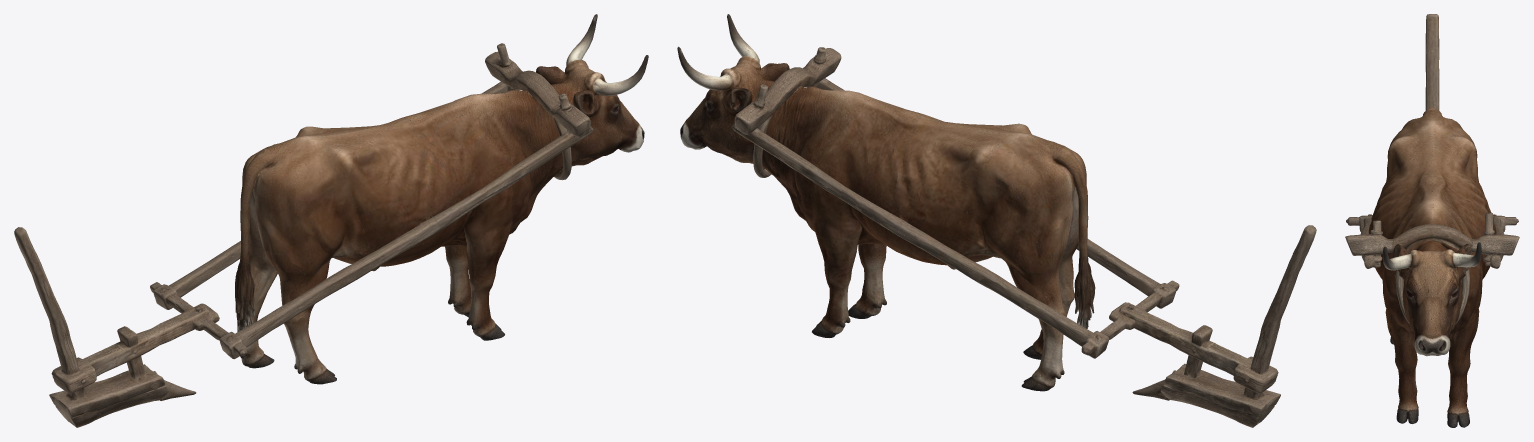
File: ox-plough.glb
The picture shows the model from 3 angles, left to right: view 1: azimuth 30°, elevation 25°; view 2: azimuth 150°, elevation 25°; view 3: azimuth 270°, elevation 25°; orthographic projection. The views are drawn at different scales.
Parts seen in each view (by area): view 1: Mesh_0; view 2: Mesh_0; view 3: Mesh_0.
Boxes of the visible parts, x1,y1,x2,y2 form: Mesh_0: [14, 14, 648, 427]; Mesh_0: [677, 14, 1316, 427]; Mesh_0: [1345, 14, 1519, 427].
Size of the model in its own units: 4.01 by 1.6 by 1.03.
Materials: 1 (1 with a texture image).
